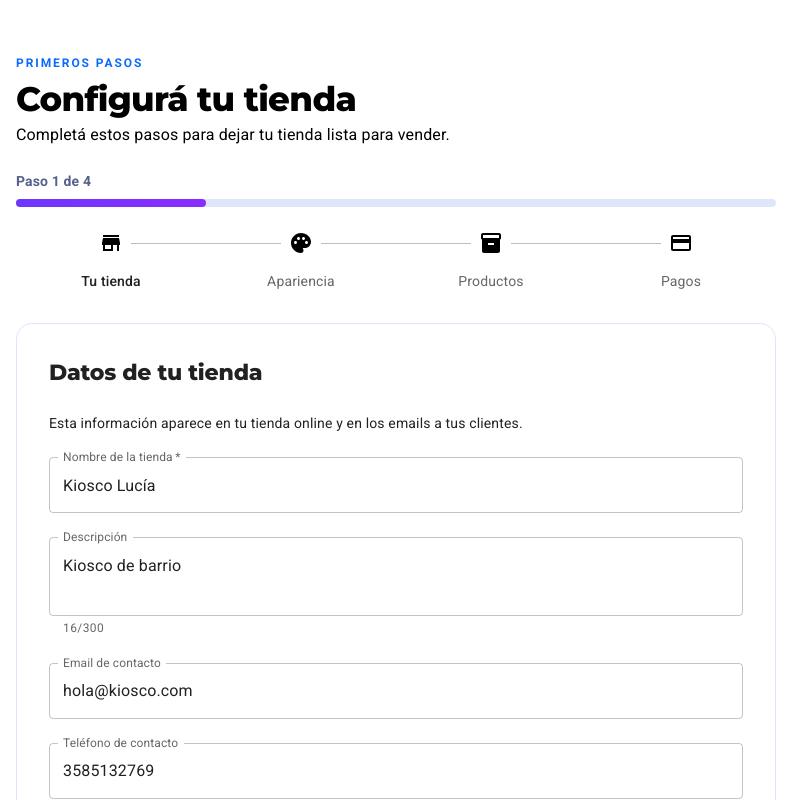
Test: Onboarding · paso «Tu tienda» › un nombre de menos de 3 letras se marca y no se guarda
This screenshot has width=799, height=800.
Replace the text in the field labelled "Nombre de la tienda" with "ab" at {"x": 396, "y": 485}, box [49,457,743,513]
(page scrolled)
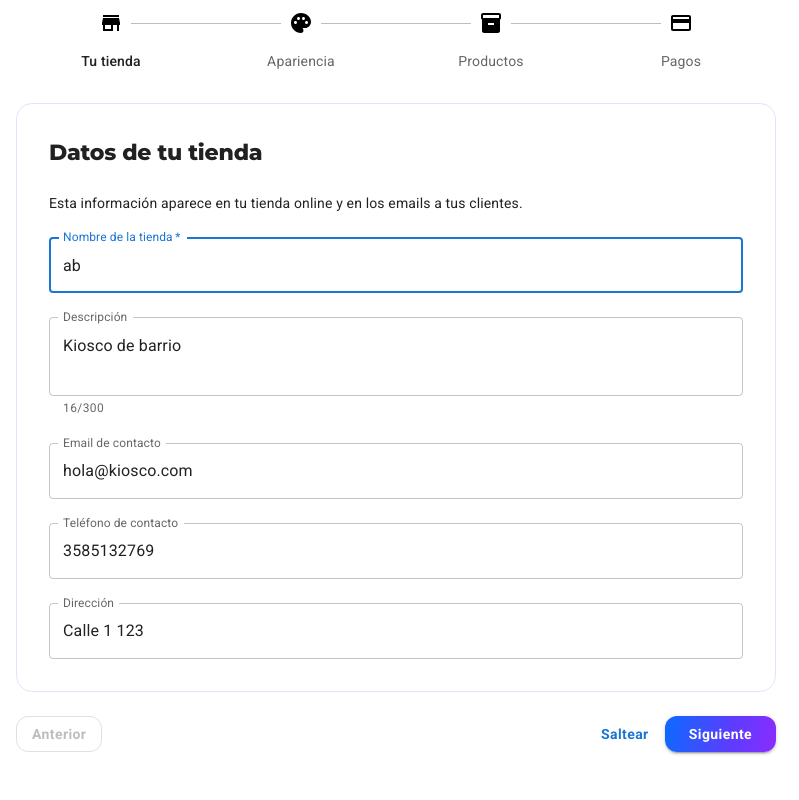
Click the button "Siguiente" at {"x": 720, "y": 734}, box [665,716,776,752]
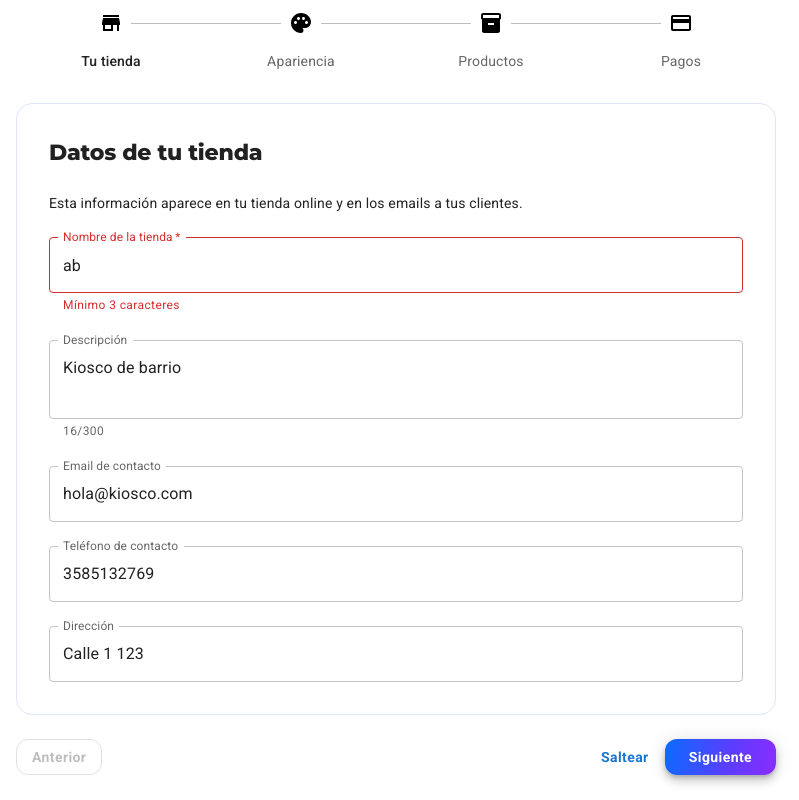
expect the text "Mínimo 3 caracteres" is shown: met, box [63,298,180,312]
